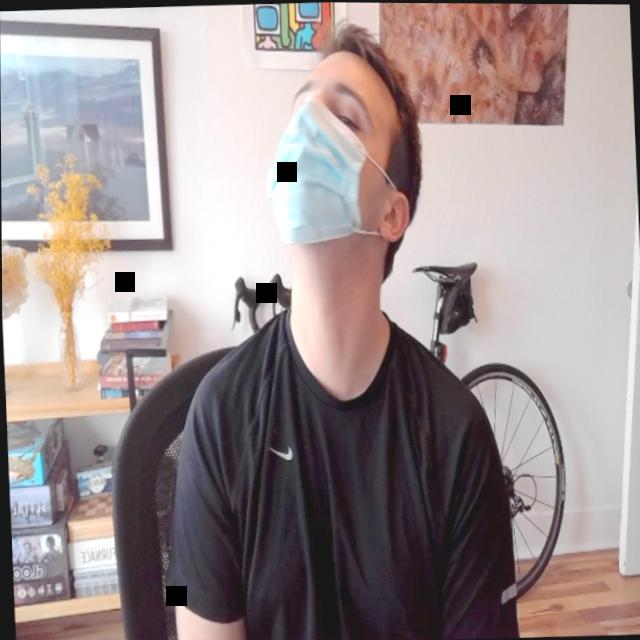Mask: (260, 45, 404, 250)
